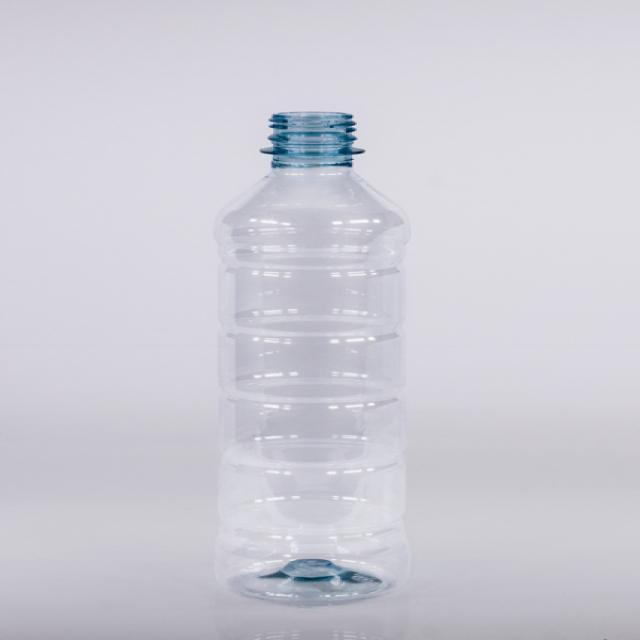plastic_bottle: (212, 109, 410, 607)
